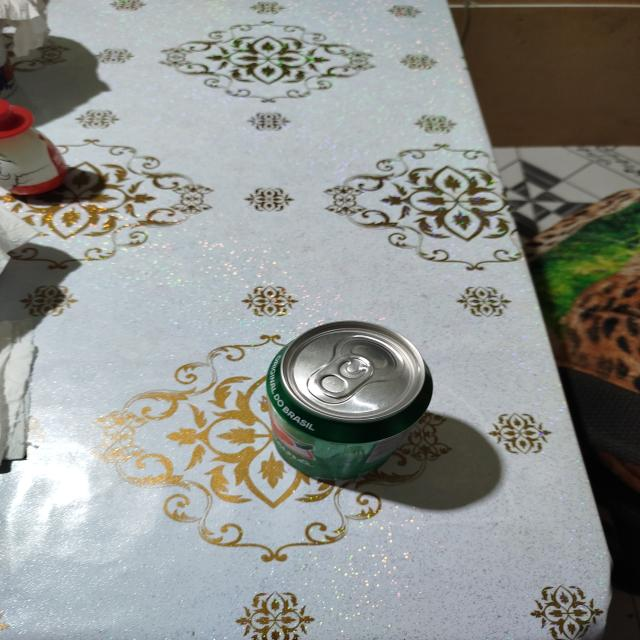Guarana: (266, 321, 434, 481)
